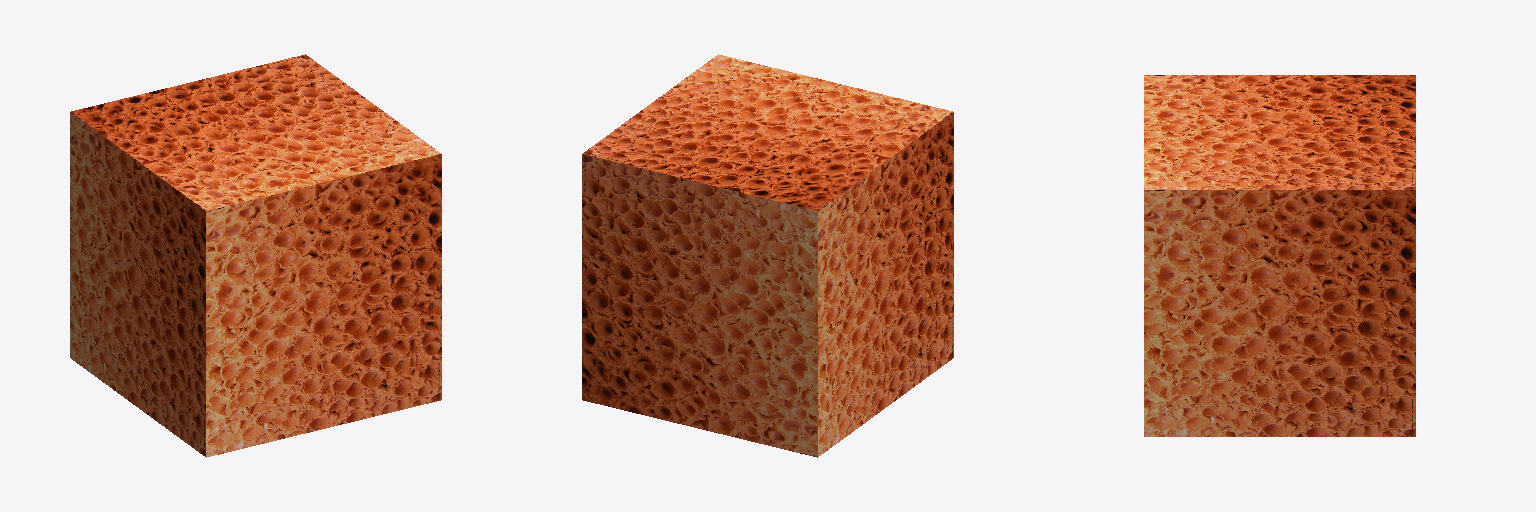
3 renders of one model, left to right at view 1: azimuth 30°, elevation 25°; view 2: azimuth 150°, elevation 25°; view 3: azimuth 270°, elevation 25°, orthographic.
Visible parts, largest first — view 1: Cube.001; view 2: Cube.001; view 3: Cube.001.
Part boxes in pixels (x1,y1,x2,y2): Cube.001: (70, 54, 441, 457); Cube.001: (582, 54, 953, 457); Cube.001: (1144, 75, 1415, 436).
Bounding box in the file's own units: 0.8424 × 0.8424 × 0.8424.
Materials: 1 (1 with a texture image).